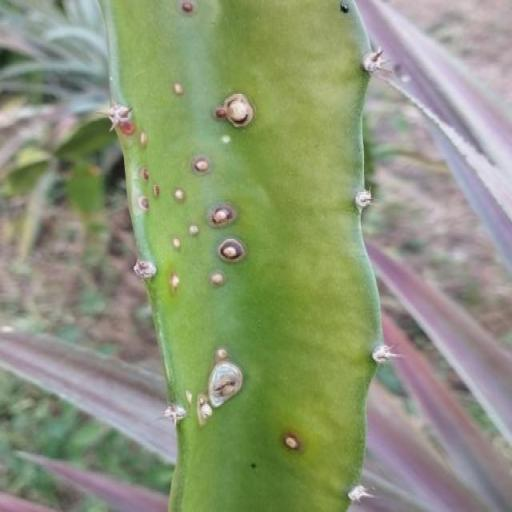stemcanker: (152, 202, 194, 344), (135, 385, 208, 466)
